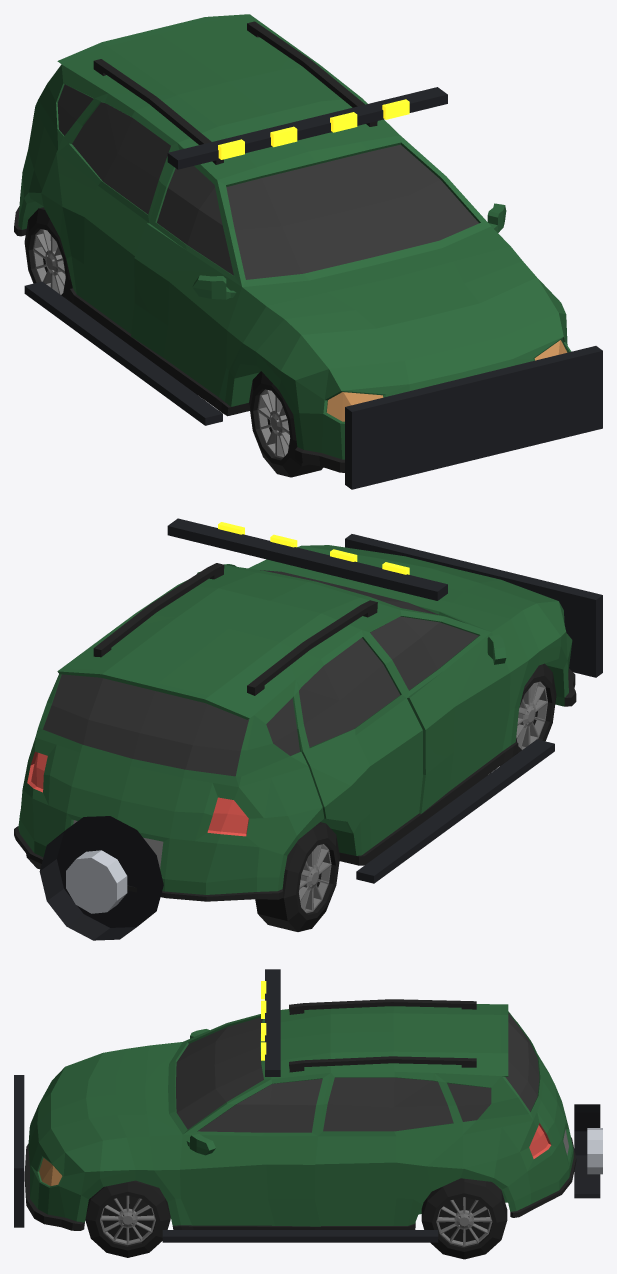
The model's file is pickup.glb.
3 views of the same model, one above another, from view 1: azimuth 30°, elevation 25°; view 2: azimuth 150°, elevation 25°; view 3: azimuth 270°, elevation 25° (orthographic). The views are drawn at different scales.
Parts seen in each view (by area): view 1: SUV; view 2: SUV; view 3: SUV.
Boxes of the visible parts, x1=… form: SUV: x1=14, y1=14, x2=602, y2=489; SUV: x1=14, y1=518, x2=602, y2=940; SUV: x1=14, y1=969, x2=602, y2=1259.
Size of the model in its own units: 2.35 by 1.64 by 4.5.
